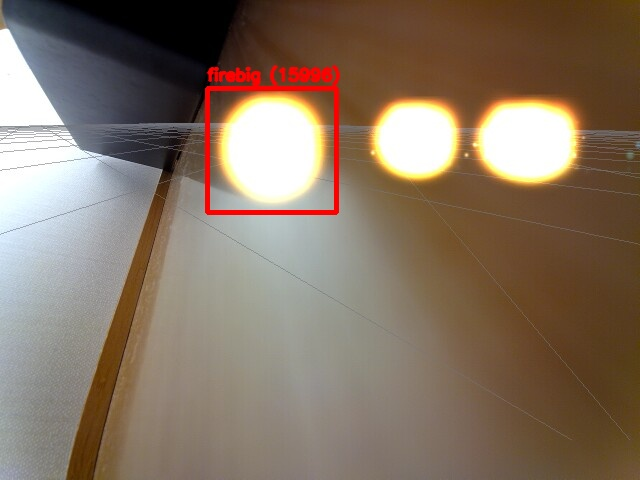firebig: (207, 88, 336, 212)
